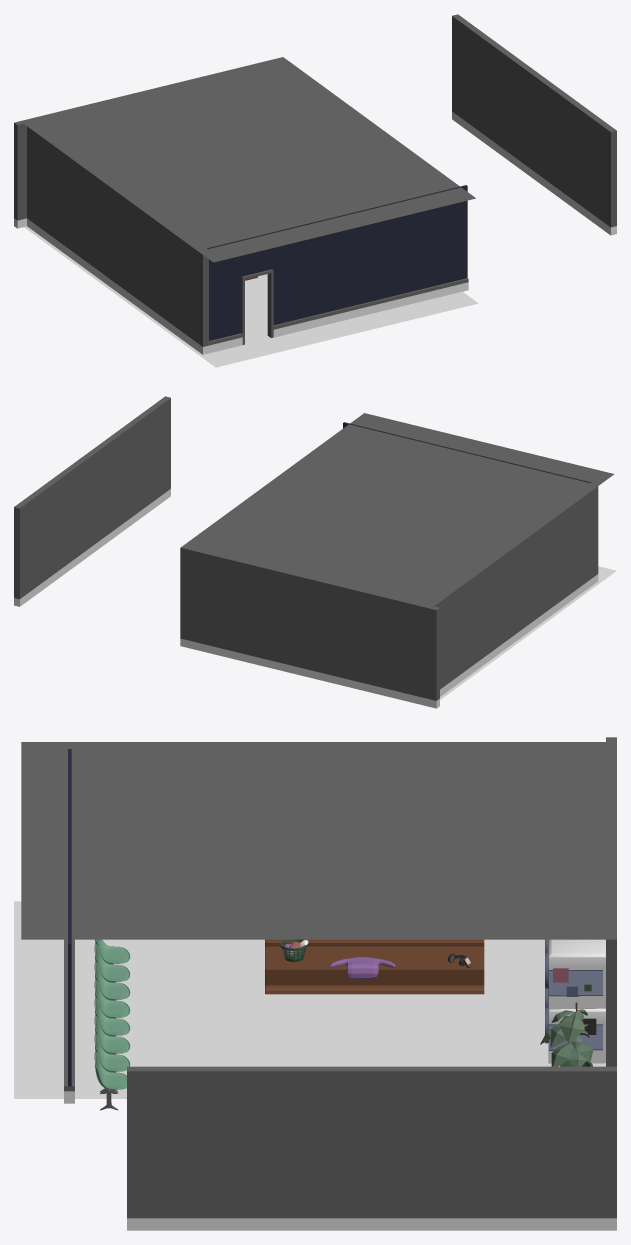
3 views of the same model, one above another, from view 1: azimuth 30°, elevation 25°; view 2: azimuth 150°, elevation 25°; view 3: azimuth 270°, elevation 25° (orthographic). The views are drawn at different scales.
Visible parts, largest first — view 1: Plane.001, Glass, StructureBase.001, StructureBase.003, Plane, StructureBase2, StructureBase.002, DoorFrame; view 2: Plane.001, StructureBase.002, StructureBase.003, StructureBase.001, Plane, Glass; view 3: Plane.001, StructureBase.003, Plane, Folding Table, Washing Machine_Frame.004, StructureBase.002, BenchChair.001, BenchChair, StructureBase2, Glass, StructureBase.001, Shirt.
Boxes of the visible parts, x1=… form: Plane.001: x1=24, y1=59, x2=475, y2=262; Glass: x1=207, y1=185, x2=467, y2=340; StructureBase.001: x1=27, y1=126, x2=208, y2=354; StructureBase.003: x1=452, y1=14, x2=616, y2=235; Plane: x1=24, y1=226, x2=478, y2=367; StructureBase2: x1=273, y1=278, x2=468, y2=337; StructureBase.002: x1=14, y1=57, x2=286, y2=228; DoorFrame: x1=241, y1=269, x2=273, y2=344; Plane.001: x1=184, y1=413, x2=614, y2=605; StructureBase.002: x1=180, y1=545, x2=439, y2=708; StructureBase.003: x1=14, y1=396, x2=170, y2=606; StructureBase.001: x1=434, y1=481, x2=598, y2=696; Plane: x1=440, y1=566, x2=616, y2=699; Glass: x1=343, y1=422, x2=590, y2=482; Plane.001: x1=21, y1=742, x2=605, y2=939; StructureBase.003: x1=127, y1=1066, x2=616, y2=1230; Plane: x1=14, y1=901, x2=605, y2=1098; Folding Table: x1=265, y1=939, x2=484, y2=994; Washing Machine_Frame.004: x1=545, y1=939, x2=605, y2=1063; StructureBase.002: x1=606, y1=737, x2=616, y2=1066; BenchChair.001: x1=94, y1=997, x2=130, y2=1089; BenchChair: x1=94, y1=939, x2=130, y2=1017; StructureBase2: x1=64, y1=939, x2=74, y2=1103; Glass: x1=68, y1=749, x2=71, y2=1086; StructureBase.001: x1=64, y1=744, x2=335, y2=748; Shirt: x1=329, y1=957, x2=395, y2=979.
Bounding box in the file's own units: 1441 × 321 × 1099.
